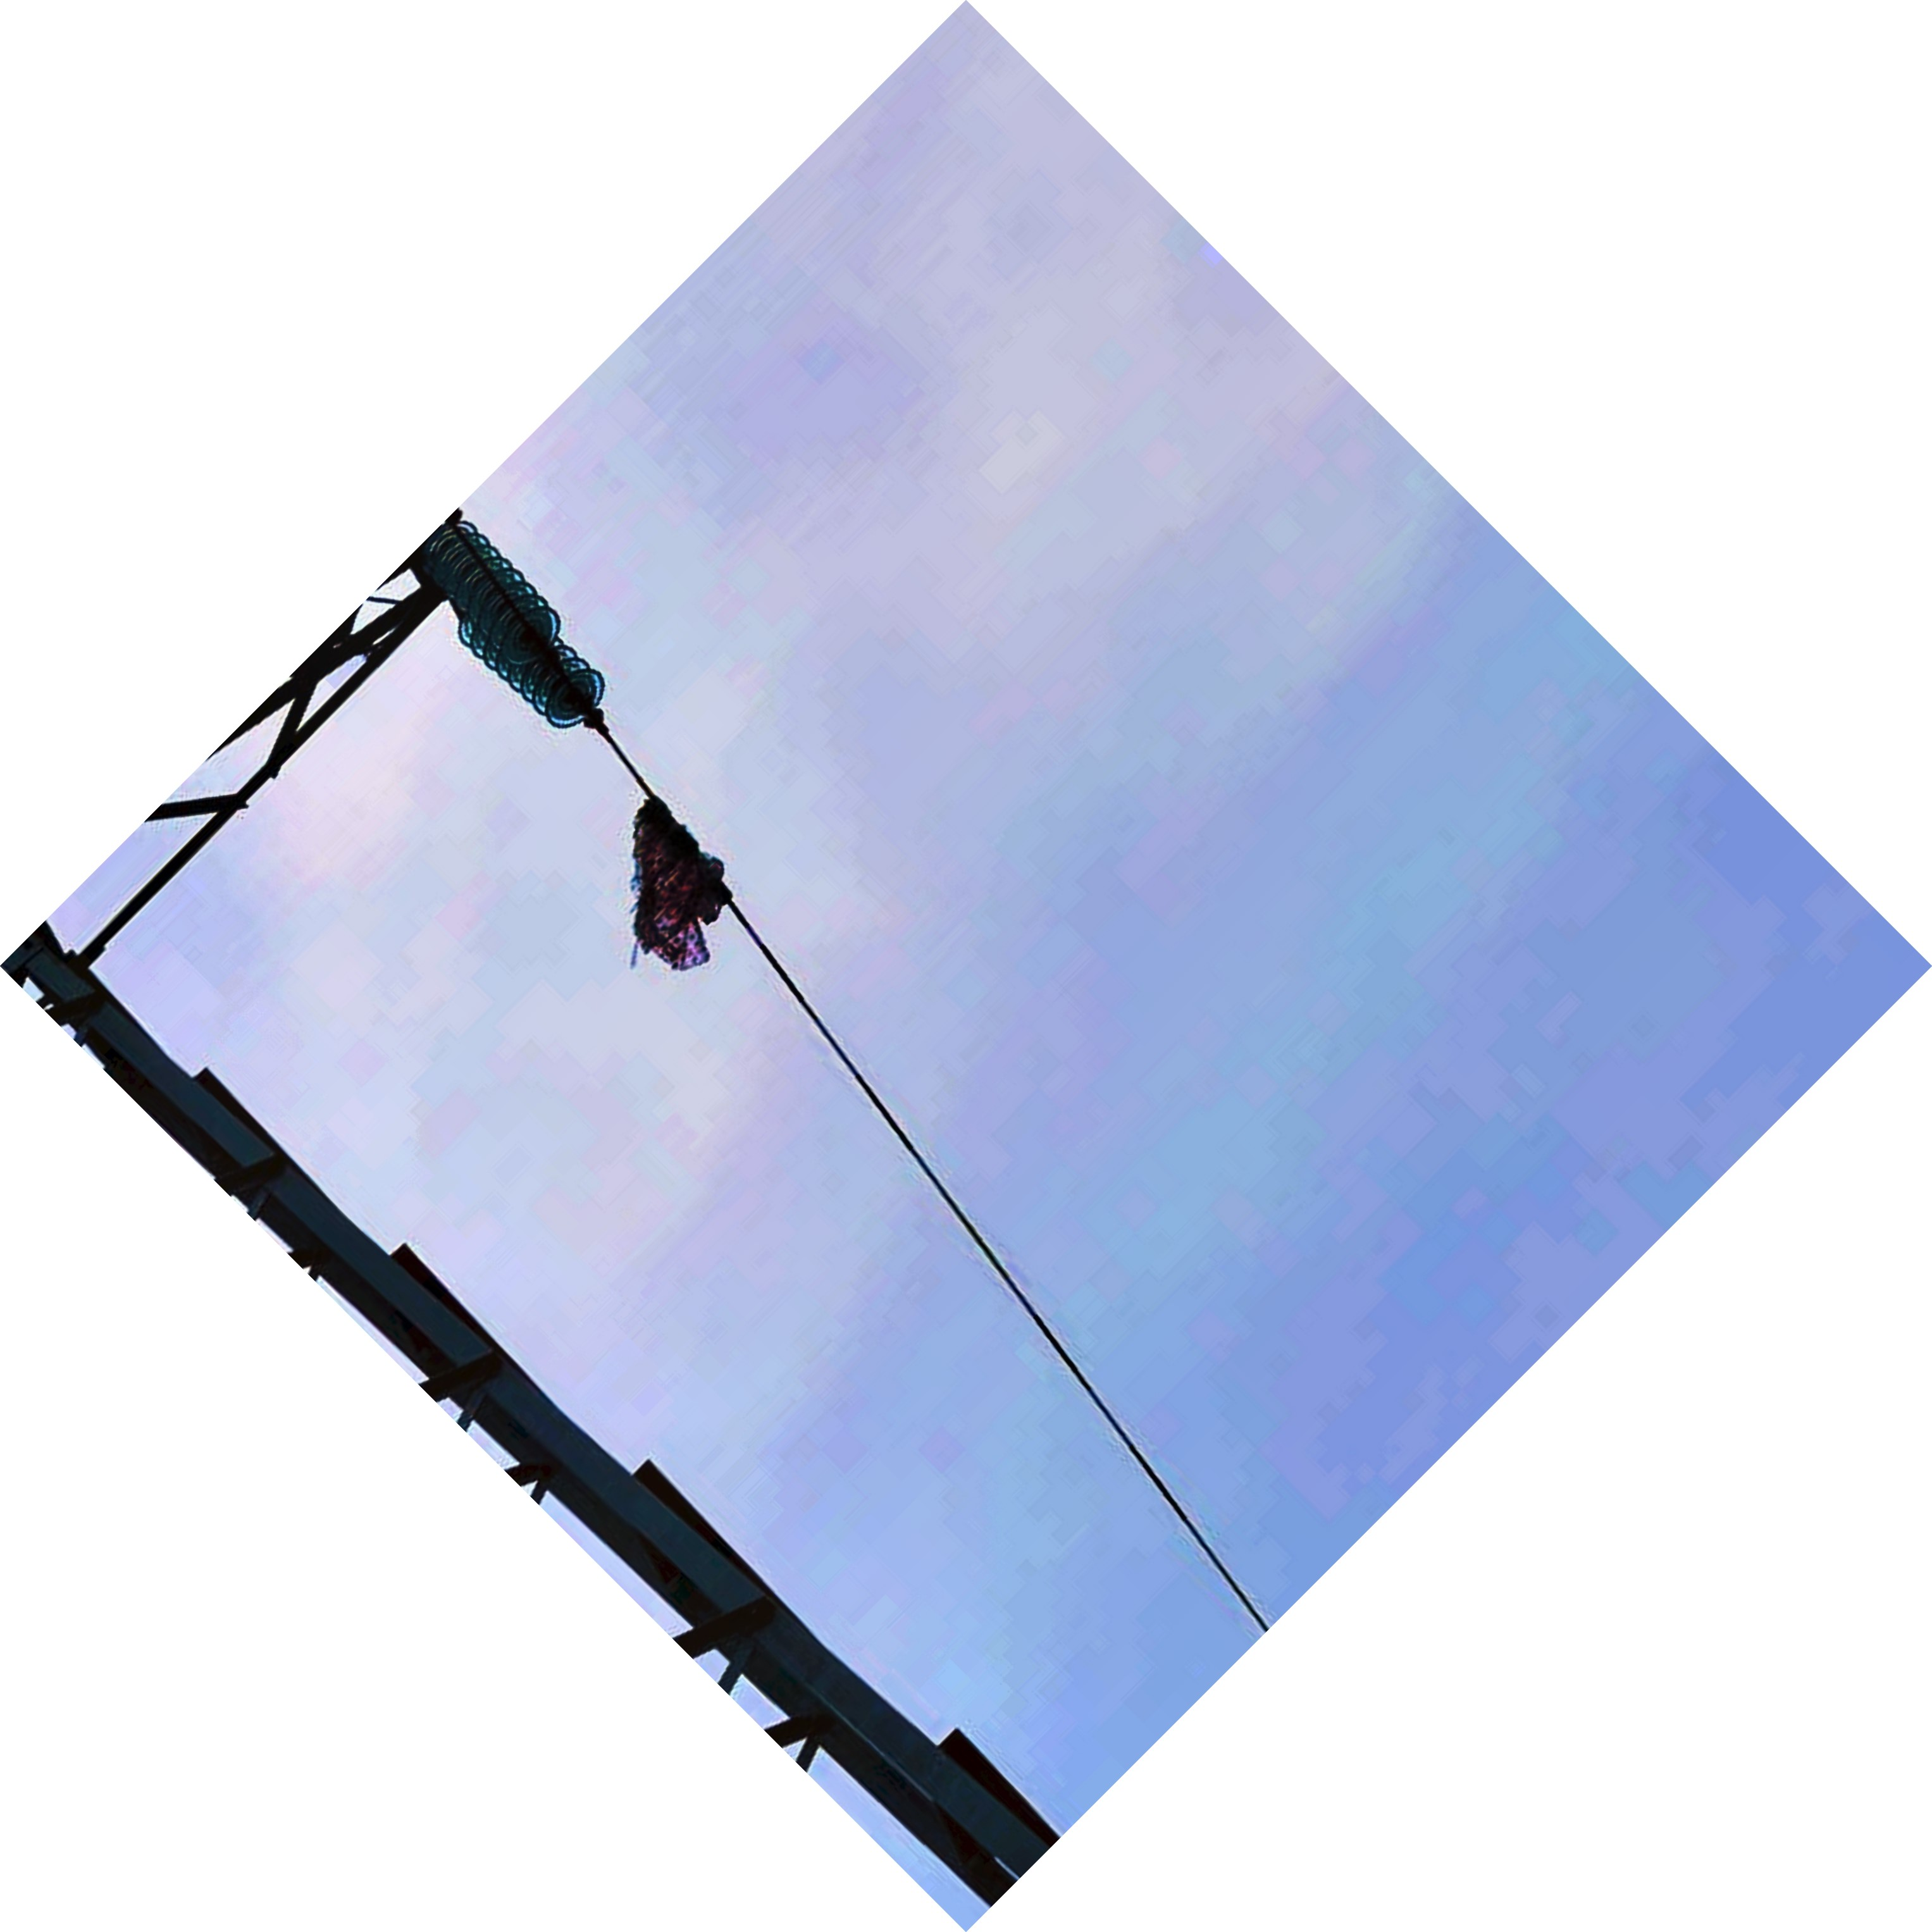wire foreign body: (600, 780, 755, 985)
